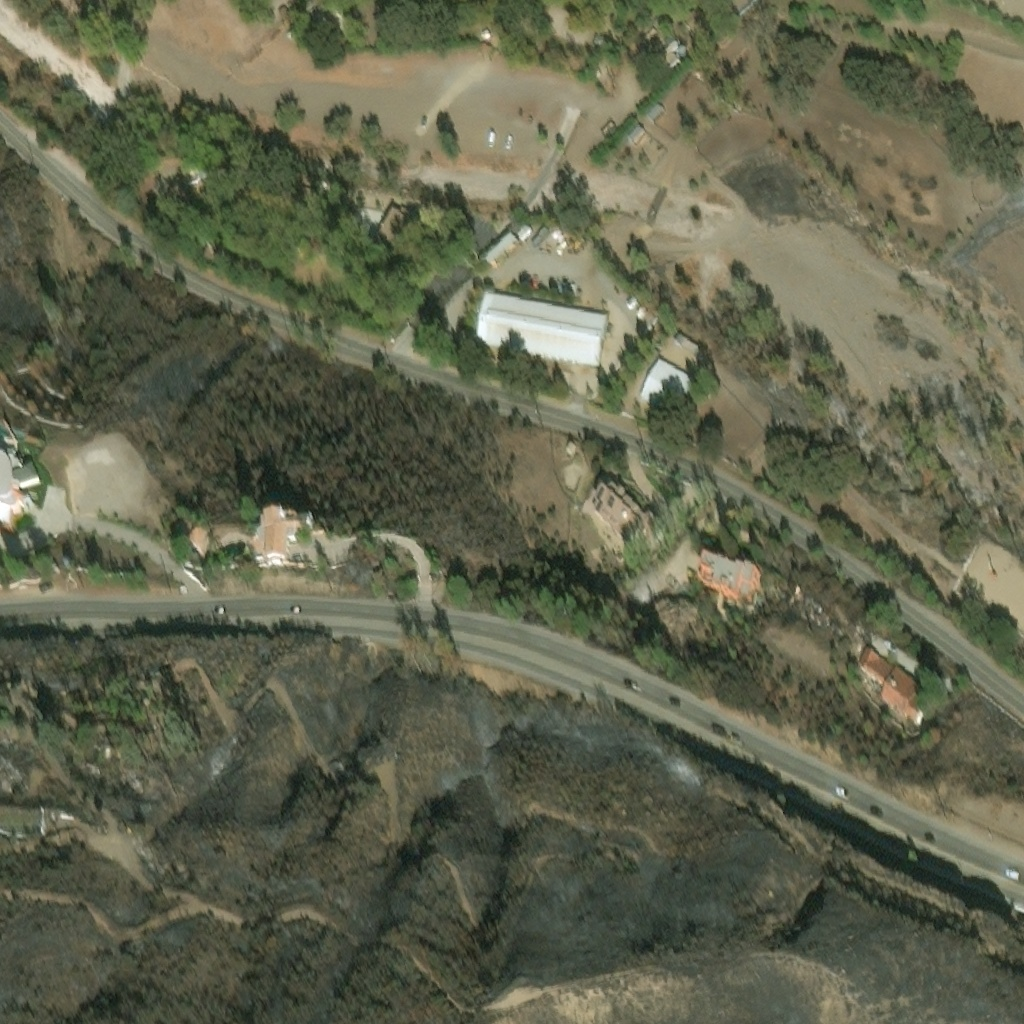0 no-damage: (470, 287, 611, 370), (853, 643, 934, 718), (590, 476, 658, 546), (248, 508, 316, 564), (638, 355, 695, 414), (698, 552, 764, 601), (0, 453, 40, 522), (651, 29, 688, 68), (624, 120, 645, 139), (645, 98, 664, 117)
3 destroyed: (0, 799, 41, 826), (80, 756, 100, 773), (132, 836, 151, 850), (124, 769, 140, 782), (5, 765, 20, 775)
4 un-classified: (159, 170, 216, 222)
